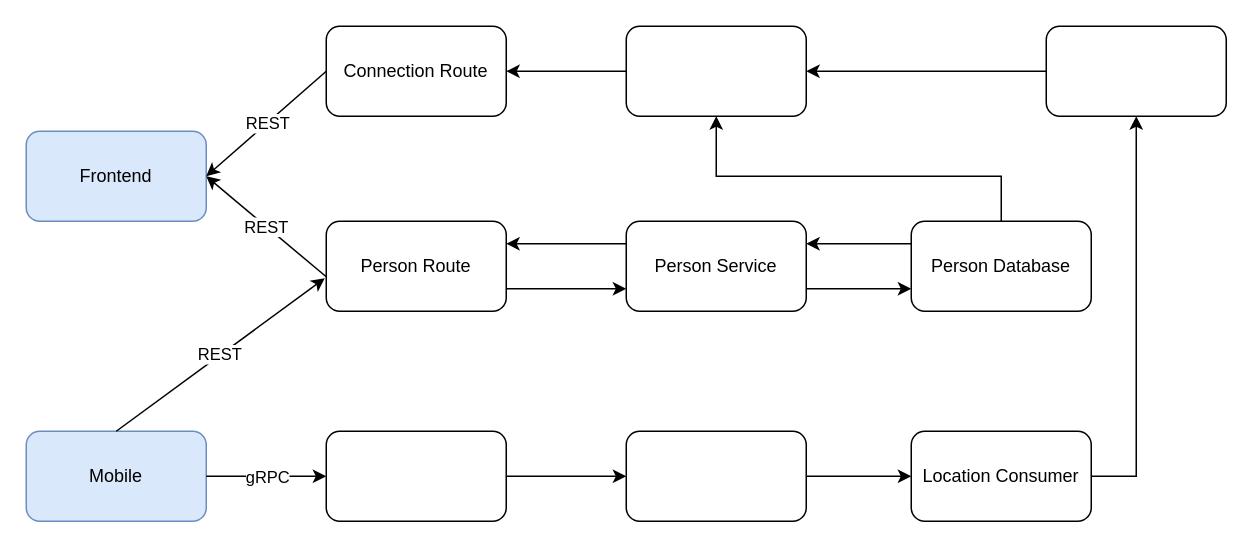
This 1253x548 diagram has some shape labels left out. Here are the shapes that lost their labels. From the top down, the centre of each, then its label:
point (715, 70): Connection Service
point (1135, 70): Location Database
point (415, 475): Location Producer
point (715, 475): Kafka
